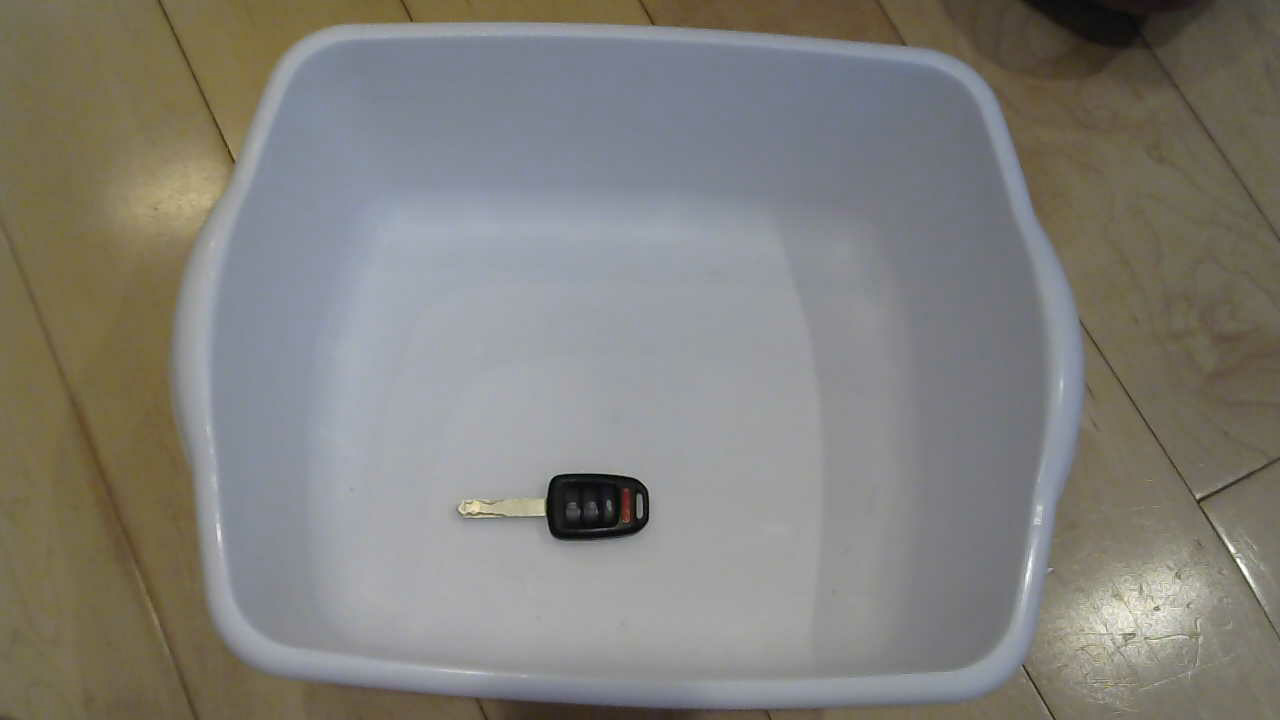key: (444, 459, 670, 560)
